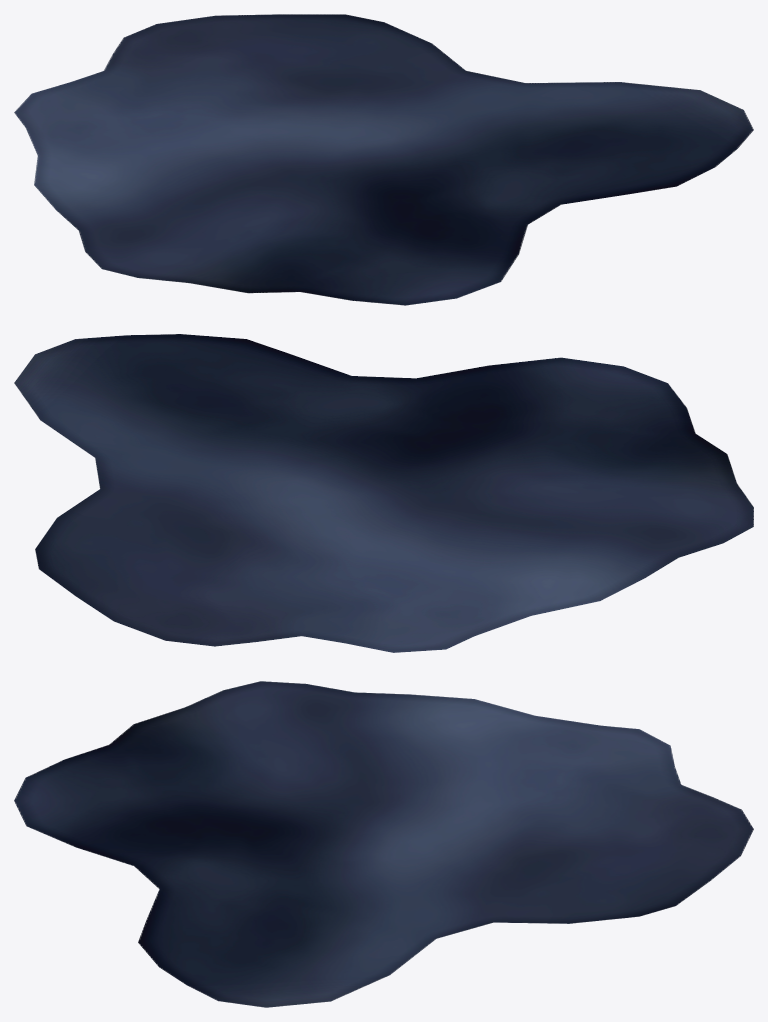
Rendered from Macchia_Olio.fbx.
3 views of the same model, one above another, from view 1: azimuth 30°, elevation 25°; view 2: azimuth 150°, elevation 25°; view 3: azimuth 270°, elevation 25° (orthographic). The views are drawn at different scales.
Parts seen in each view (by area): view 1: Macchia_Olio; view 2: Macchia_Olio; view 3: Macchia_Olio.
Boxes of the visible parts, x1,y1,x2,y2 form: Macchia_Olio: (14,14,753,305); Macchia_Olio: (14,334,753,652); Macchia_Olio: (14,681,753,1007).
Bounding box in the file's own units: 134 × 0 × 128.
1 material, 1 textured.
